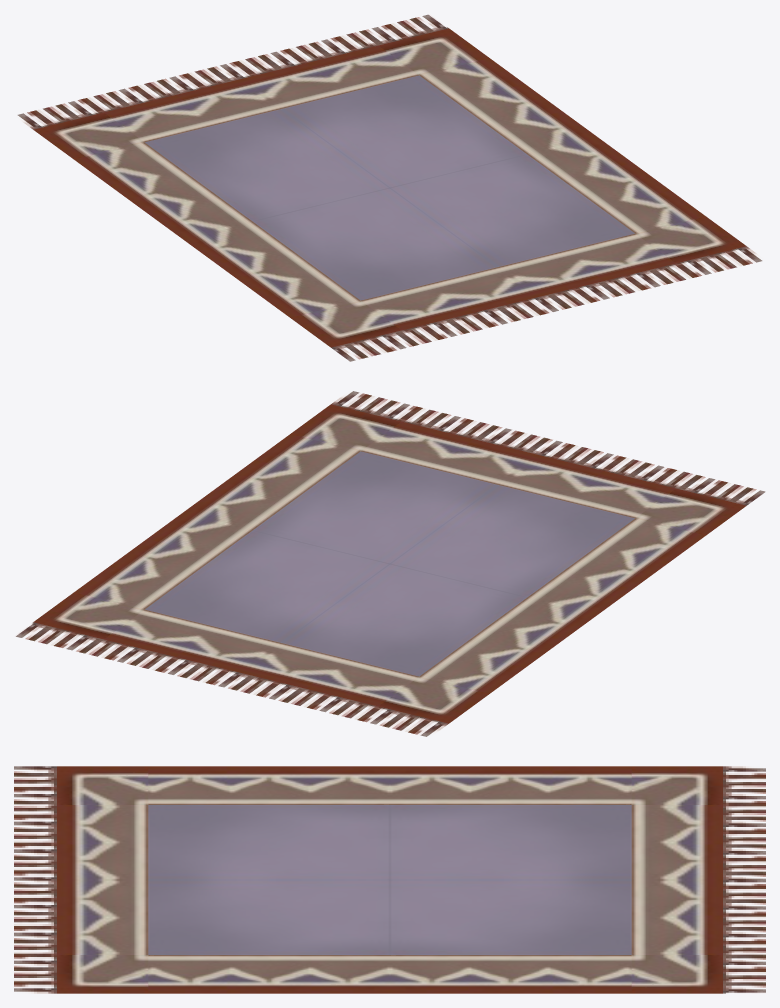
Rendered from rug.glb.
3 views of the same model, one above another, from view 1: azimuth 30°, elevation 25°; view 2: azimuth 150°, elevation 25°; view 3: azimuth 270°, elevation 25° (orthographic). The views are drawn at different scales.
Parts seen in each view (by area): view 1: o2, o2_1, o2_3, o2_2, o1; view 2: o2, o2_1, o2_3, o2_2, o1; view 3: o2, o2_1, o2_3, o2_2, o1.
Boxes of the visible parts, x1=… form: o2: x1=182, y1=188, x2=538, y2=347; o2_1: x1=33, y1=79, x2=389, y2=238; o2_3: x1=241, y1=28, x2=597, y2=187; o2_2: x1=390, y1=137, x2=746, y2=296; o1: x1=17, y1=14, x2=762, y2=361; o2: x1=390, y1=455, x2=746, y2=614; o2_1: x1=241, y1=564, x2=597, y2=723; o2_3: x1=33, y1=513, x2=389, y2=672; o2_2: x1=182, y1=404, x2=538, y2=563; o1: x1=15, y1=391, x2=765, y2=736; o2: x1=57, y1=766, x2=389, y2=879; o2_1: x1=390, y1=766, x2=722, y2=879; o2_3: x1=390, y1=880, x2=722, y2=993; o2_2: x1=57, y1=880, x2=389, y2=993; o1: x1=14, y1=766, x2=765, y2=993.
Bounding box in the file's own units: 10 × 0 × 14.
3 materials, 3 textured.
